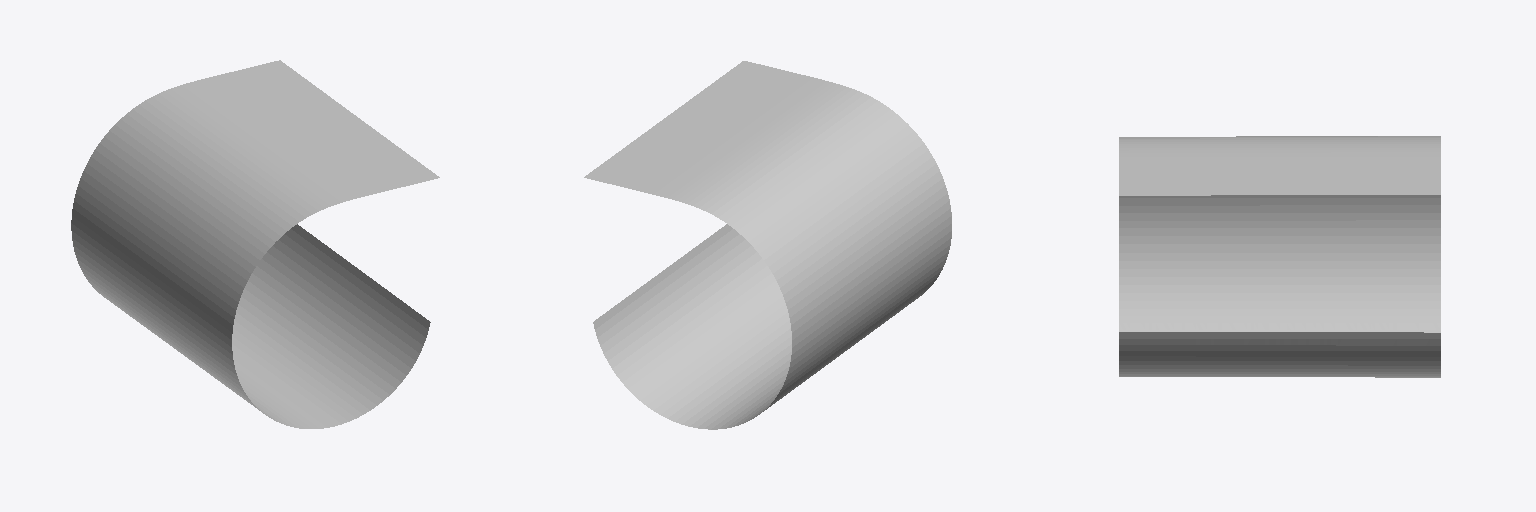
Rendered from CurvePaper_000024.obj.
3 views of the same model, side by side, from view 1: azimuth 30°, elevation 25°; view 2: azimuth 150°, elevation 25°; view 3: azimuth 270°, elevation 25° (orthographic).
Parts seen in each view (by area): view 1: Plane; view 2: Plane; view 3: Plane.
Part boxes in pixels (left/top/right/bottom): Plane: left=71, top=60, right=439, bottom=428; Plane: left=584, top=61, right=951, bottom=429; Plane: left=1119, top=136, right=1440, bottom=377.
Bounding box in the file's own units: 1.7 × 1.74 × 2.26.